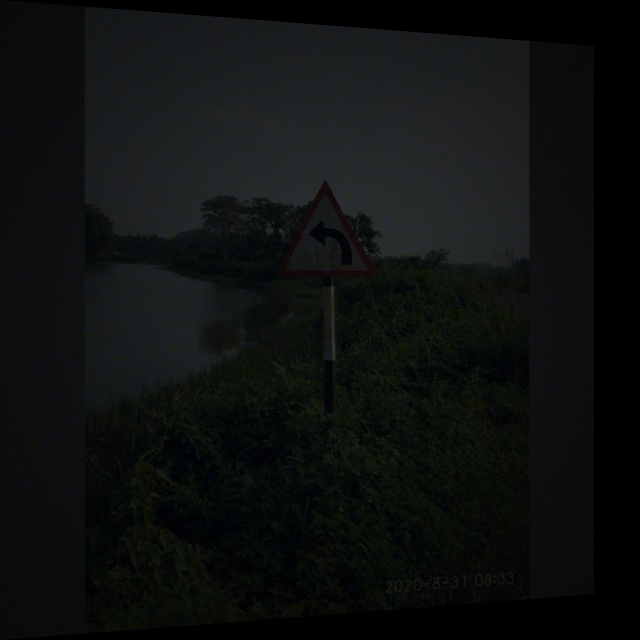Left_Hand_Curve: (270, 176, 379, 282)
